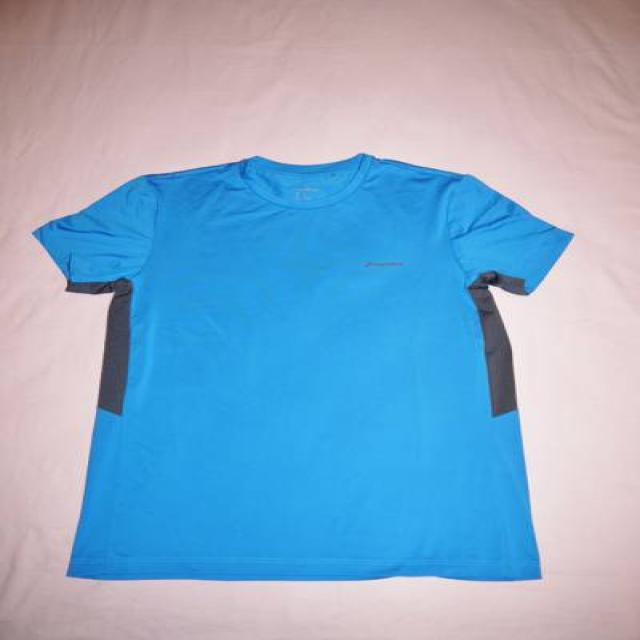shirt: (31, 153, 572, 582)
